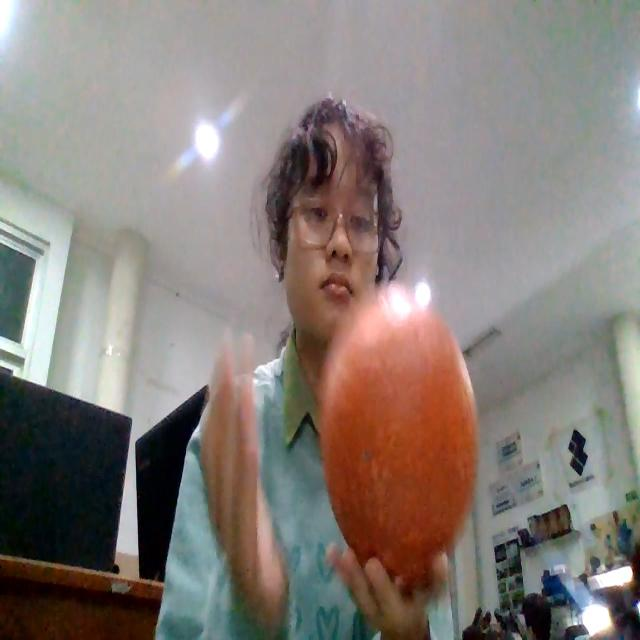ball: (319, 294, 475, 564)
